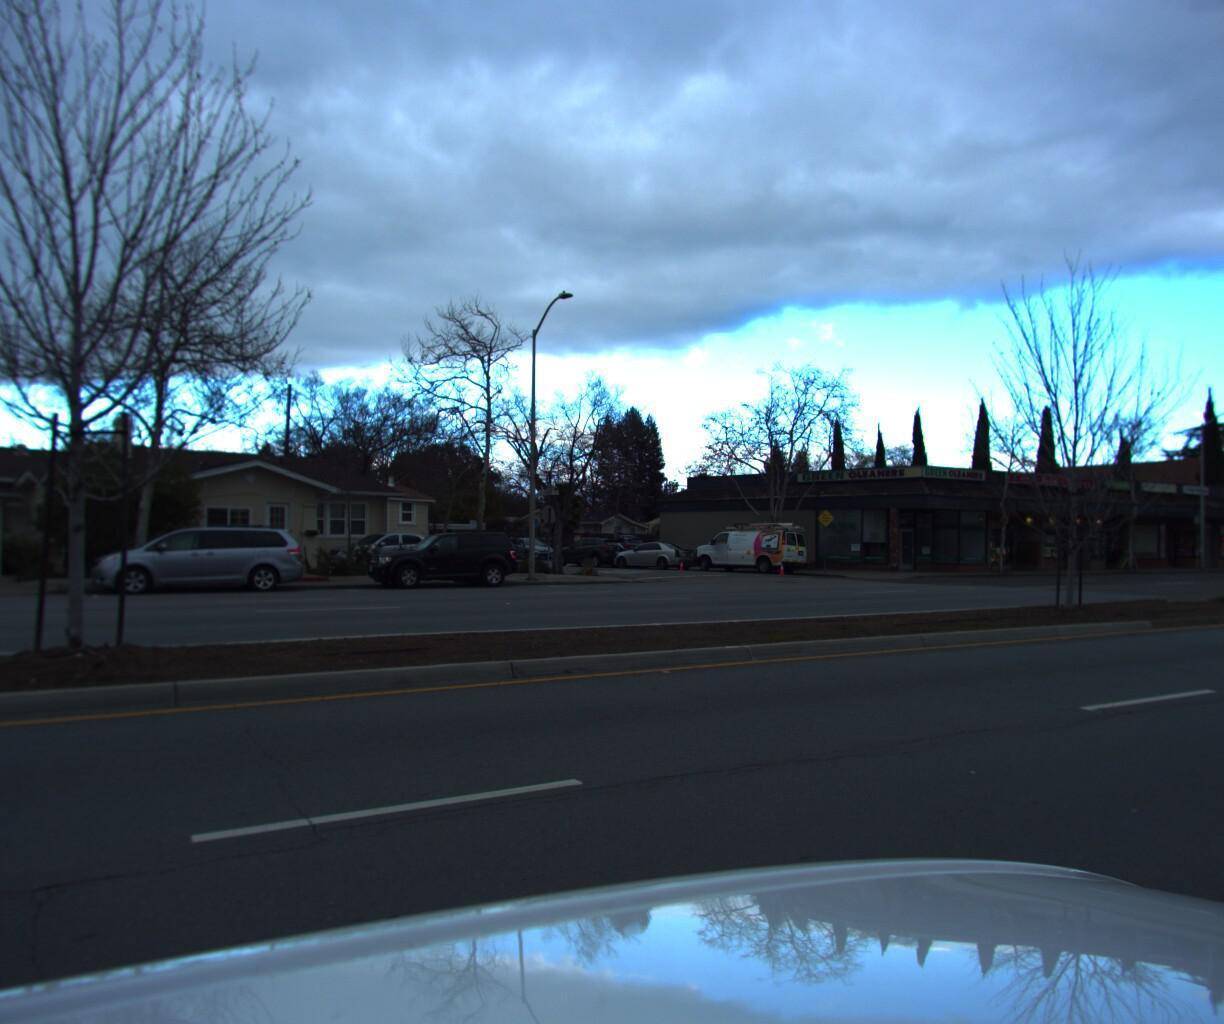car: (83, 524, 315, 600), (357, 526, 527, 591), (683, 518, 815, 576), (318, 529, 450, 574), (611, 538, 706, 573), (553, 534, 635, 568)
